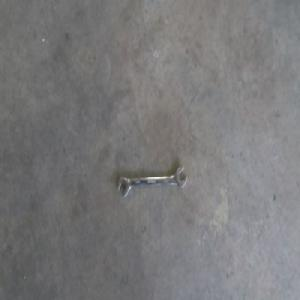Wrench: (117, 165, 186, 194)
